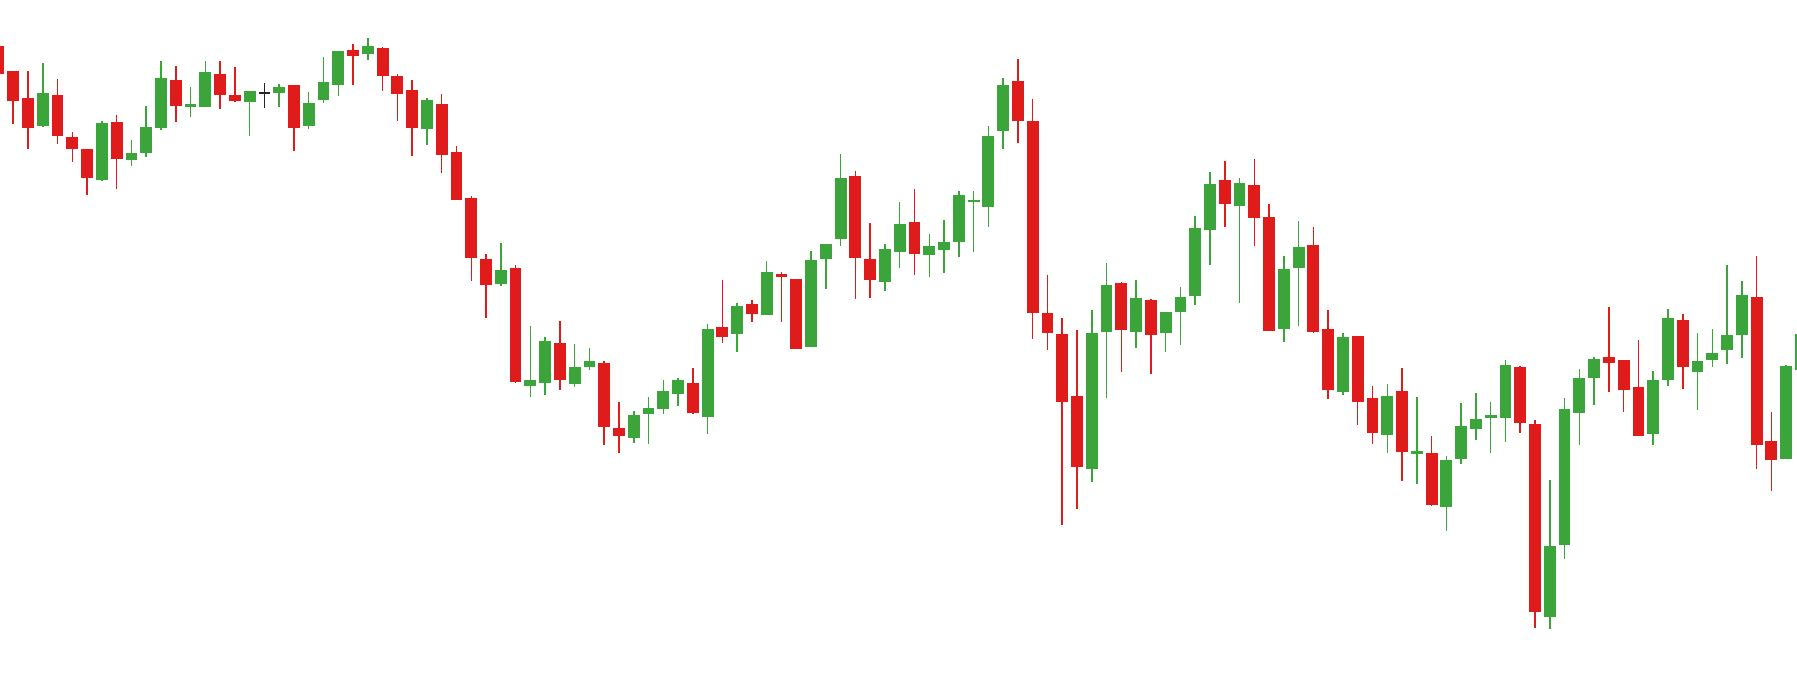buy: (686, 188, 1069, 541), (1425, 412, 1574, 636)
sell: (230, 39, 392, 114), (1661, 260, 1734, 367)
